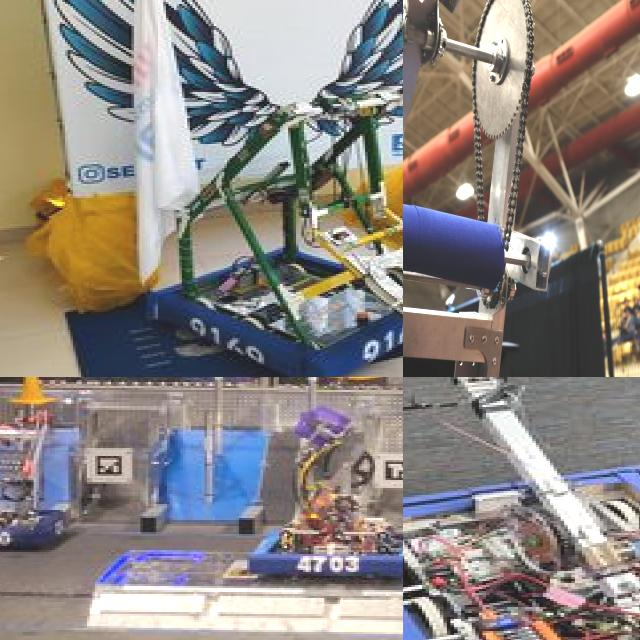FRC-Robots: (70, 0, 403, 377), (403, 0, 602, 377), (403, 377, 640, 640), (242, 432, 403, 600), (0, 419, 91, 565)
